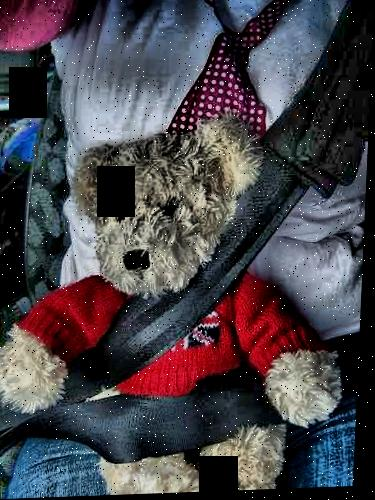seatbelt: (12, 104, 356, 468)
